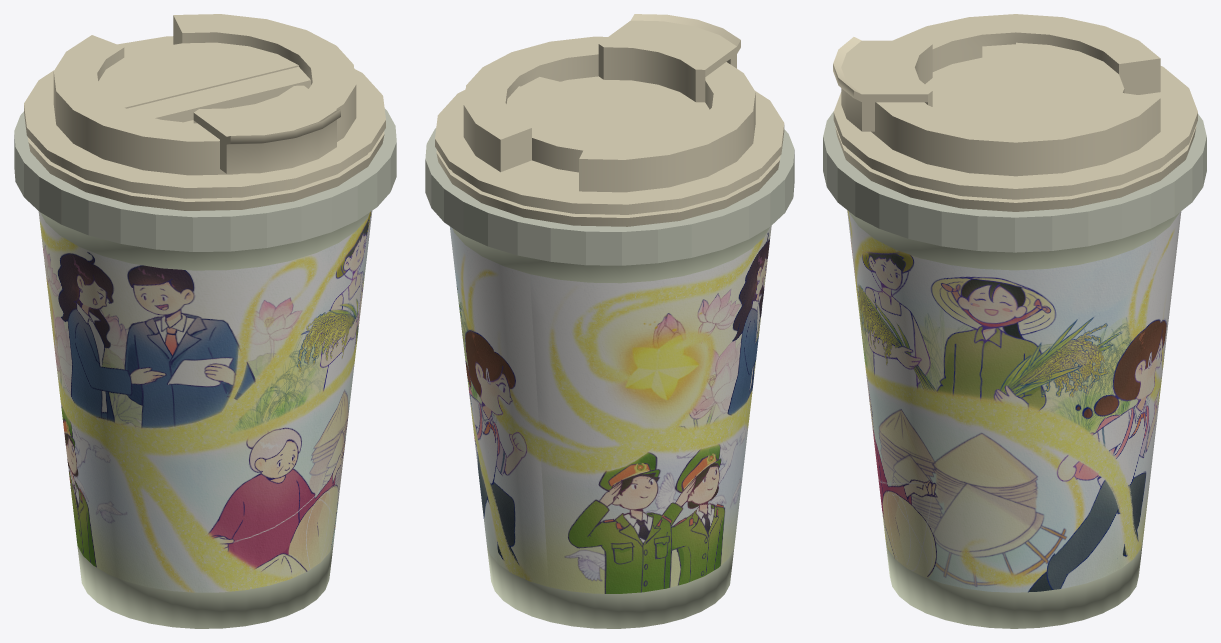
The picture shows the model from 3 angles, left to right: view 1: azimuth 30°, elevation 25°; view 2: azimuth 150°, elevation 25°; view 3: azimuth 270°, elevation 25°; orthographic projection. The views are drawn at different scales.
Parts seen in each view (by area): view 1: Cup Body 1, lid, Cylinder; view 2: Cup Body 1, lid, Cylinder; view 3: Cup Body 1, lid, Cylinder.
Boxes of the visible parts, x1,y1,x2,y2 form: Cup Body 1: (38,211,372,628); lid: (24,14,385,210); Cylinder: (14,108,396,251); Cup Body 1: (449,226,771,628); lid: (435,14,784,226); Cylinder: (425,128,794,265); Cup Body 1: (847,210,1181,628); lid: (833,14,1197,211); Cylinder: (823,111,1206,252).
Bounding box in the file's own units: 2.69 × 3.96 × 2.69.
5 materials, 1 textured.
